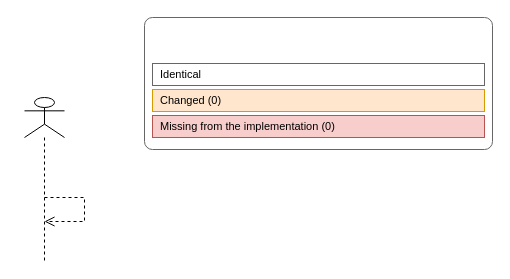
This 510x279 diagram has some shape labels left out. The box of each missing label's shape, as (x1, y1, x2, y2) in pixels:
DESIGN drawn by a person · diagrams/input/sequence-publish.drawio: (144, 16, 492, 150)
Developer: (24, 96, 64, 262)
